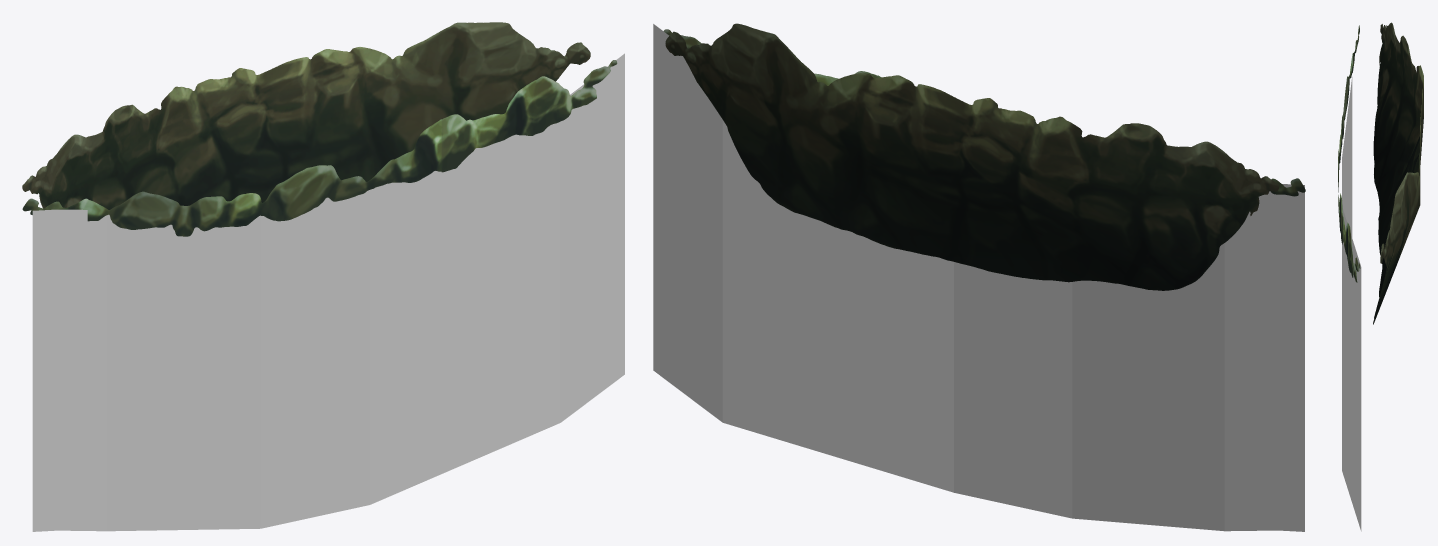
Rendered from Big Ground Hole Back.FBX.
The picture shows the model from 3 angles, left to right: view 1: azimuth 30°, elevation 25°; view 2: azimuth 150°, elevation 25°; view 3: azimuth 270°, elevation 25°; orthographic projection. The views are drawn at different scales.
Visible parts, largest first — view 1: Big Ground Hole Hide, Big Ground Hole Back, Big Ground Hole Front; view 2: Big Ground Hole Hide, Big Ground Hole Back, Big Ground Hole Front; view 3: Big Ground Hole Back, Big Ground Hole Hide, Big Ground Hole Front.
Part boxes in pixels (left/top/right/bottom): Big Ground Hole Hide: left=32, top=53, right=624, bottom=531; Big Ground Hole Back: left=22, top=22, right=590, bottom=209; Big Ground Hole Front: left=22, top=60, right=617, bottom=236; Big Ground Hole Hide: left=653, top=24, right=1304, bottom=531; Big Ground Hole Back: left=665, top=23, right=1279, bottom=290; Big Ground Hole Front: left=663, top=29, right=1305, bottom=196; Big Ground Hole Back: left=1373, top=22, right=1423, bottom=324; Big Ground Hole Hide: left=1342, top=77, right=1361, bottom=531; Big Ground Hole Front: left=1338, top=25, right=1360, bottom=282.
Bounding box in the file's own units: 620 × 92.06 × 422.
